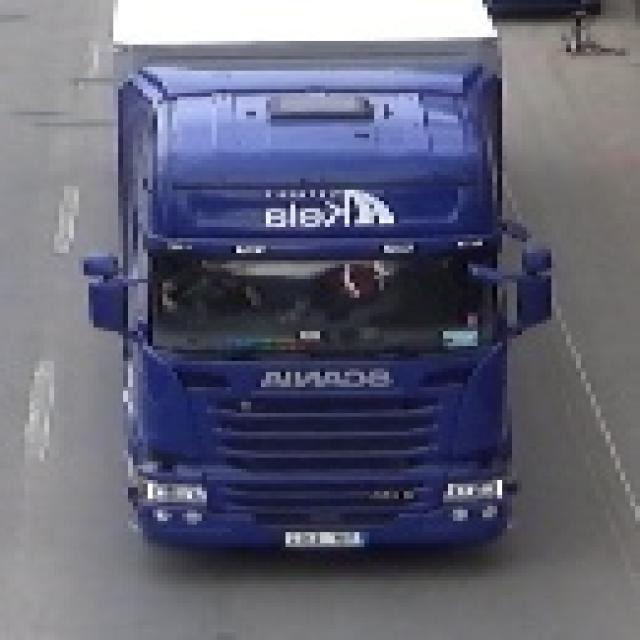truck: (79, 0, 551, 547)
